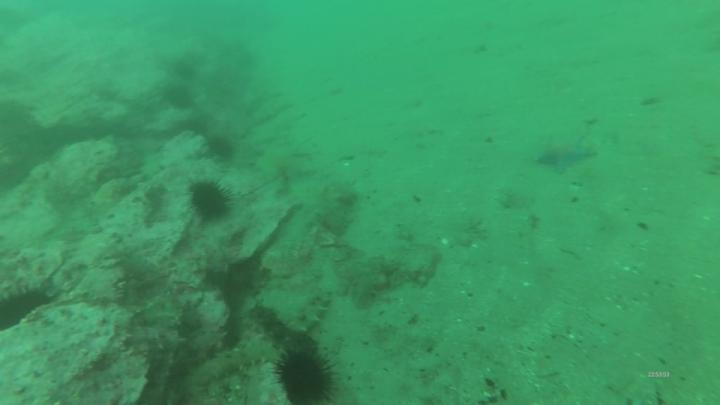echinus: (277, 354, 330, 405), (191, 184, 231, 221), (207, 137, 235, 163), (166, 85, 193, 110)
holothurian: (194, 341, 279, 387), (290, 290, 332, 332)
starfish: (538, 138, 595, 171)
